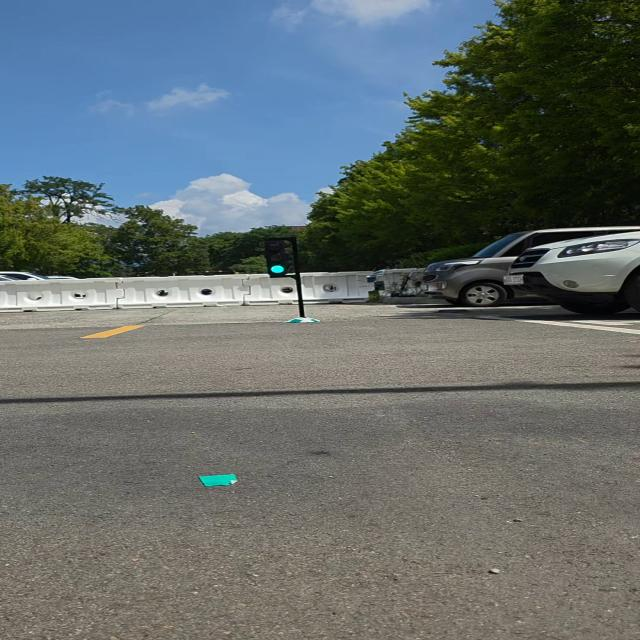green: (265, 238, 298, 278)
